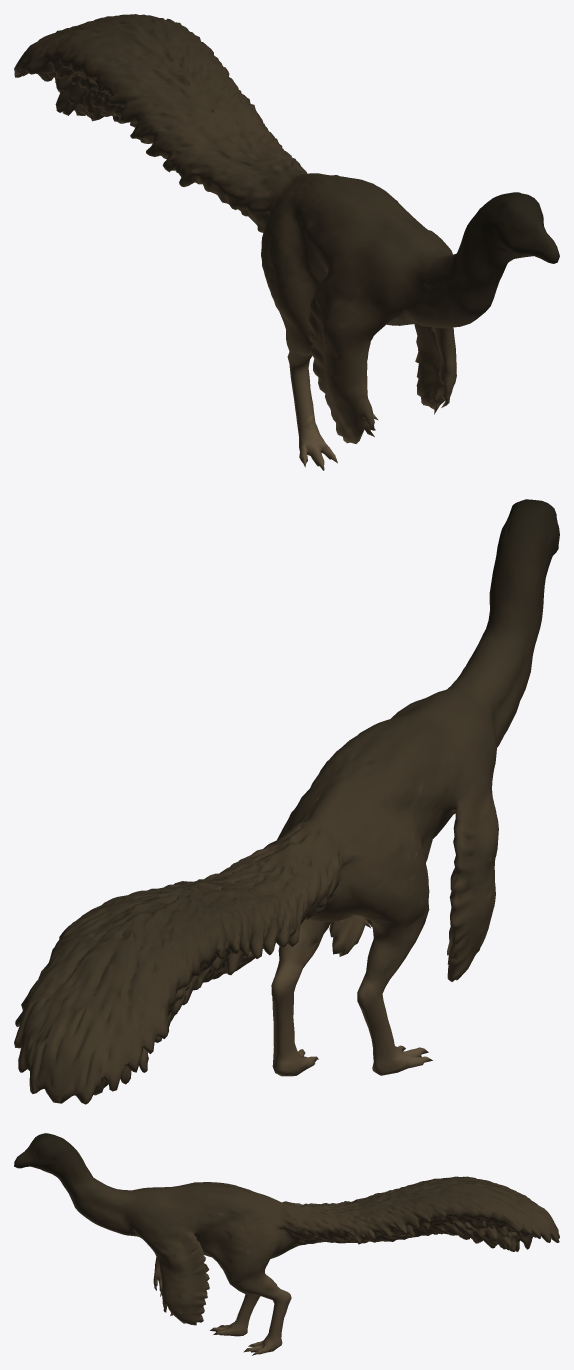
File: gallimimus.glb
3 renders of one model, top to bottom at view 1: azimuth 30°, elevation 25°; view 2: azimuth 150°, elevation 25°; view 3: azimuth 270°, elevation 25°, orthographic. The views are drawn at different scales.
Visible parts, largest first — view 1: gallimimus; view 2: gallimimus; view 3: gallimimus.
Part boxes in pixels (<box>): gallimimus: <box>14,14,559,470</box>; gallimimus: <box>14,499,559,1104</box>; gallimimus: <box>14,1133,559,1355</box>.
Bounding box in the file's own units: 26.46 × 68.94 × 161.
